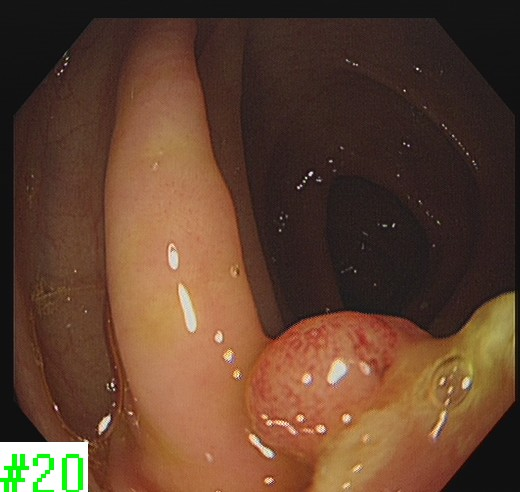adenoma: (240, 310, 435, 463)
